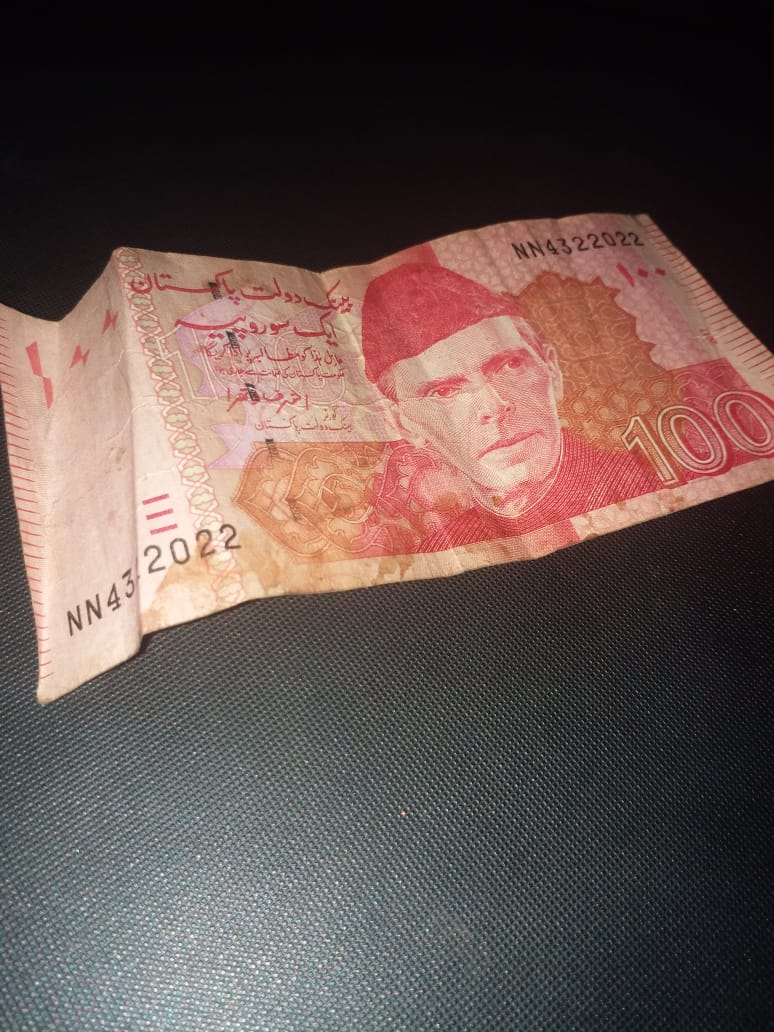100 rupee: (14, 171, 760, 716)
